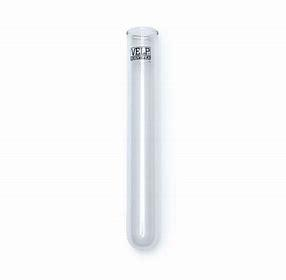Test tube: (120, 20, 163, 245)
